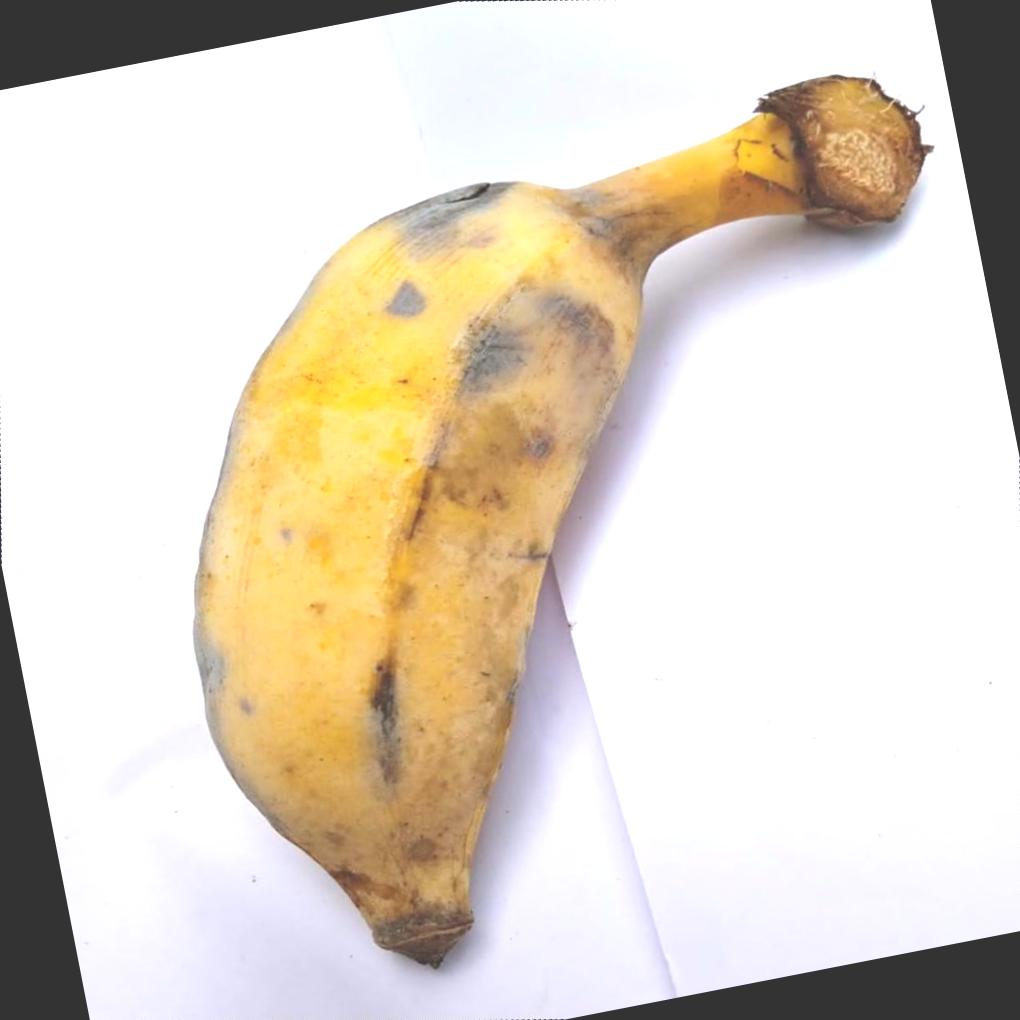Banana Ripe: (91, 58, 959, 1020)
